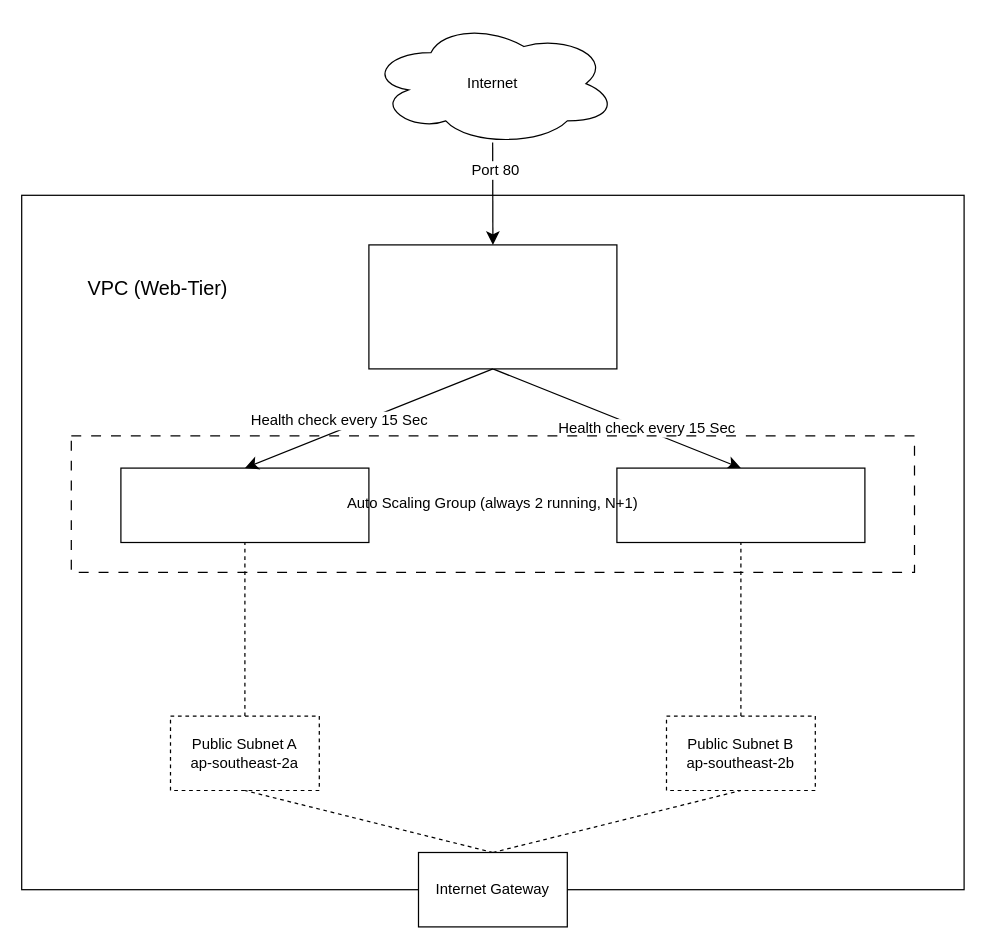
The diagram is 986 pixels wide and 949 high, and some of its shapes have lost their labels. Each missing label, with the centre of its shape:
Application Load Balancer SG: Allow port 80 from 0.0.0.0/0: point (492, 306)
Server 1 (Zone A) SG: port 80 from ALB only: point (244, 504)
Server 2 (Zone B) SG: port 80 from ALB only: point (740, 504)
